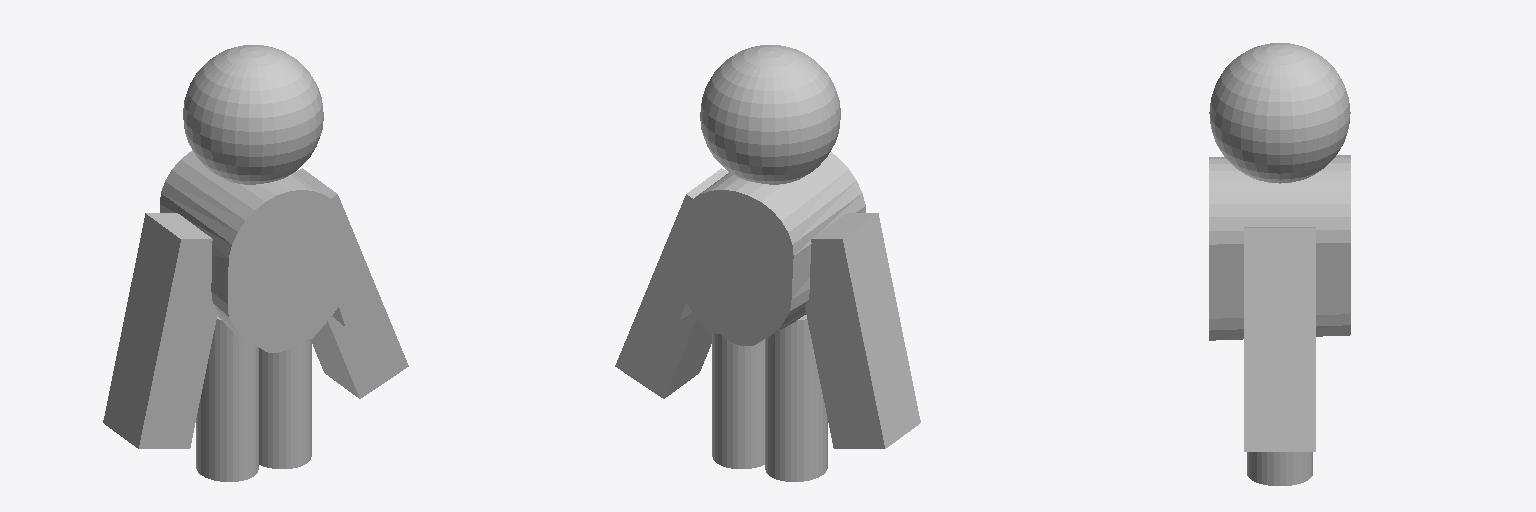
File: Figurine10.obj
The picture shows the model from 3 angles: view 1: azimuth 30°, elevation 25°; view 2: azimuth 150°, elevation 25°; view 3: azimuth 270°, elevation 25°; orthographic projection.
Parts seen in each view (by area): view 1: Cylinder; view 2: Cylinder; view 3: Cylinder.
Part boxes in pixels (x1,y1,x2,y2): Cylinder: (103, 45, 408, 481); Cylinder: (615, 45, 920, 481); Cylinder: (1209, 43, 1350, 485).
Bounding box in the file's own units: 4.42 × 6.42 × 2.